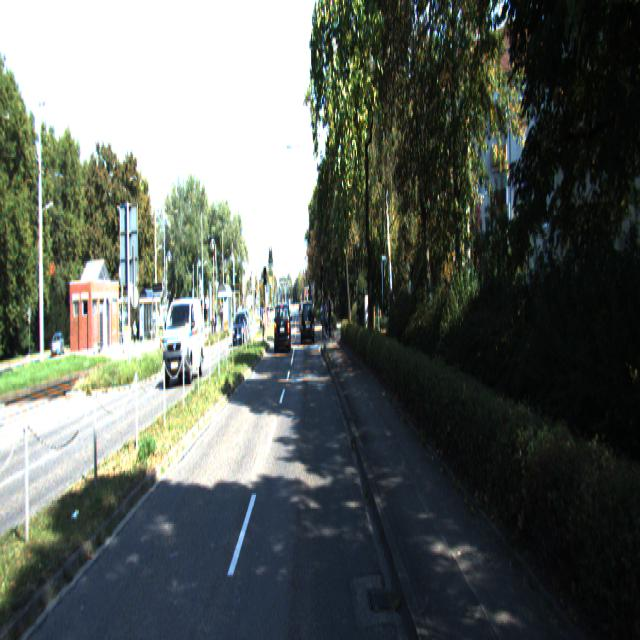Car: (164, 296, 205, 385), (275, 303, 292, 354), (301, 300, 315, 346), (233, 312, 248, 348)
